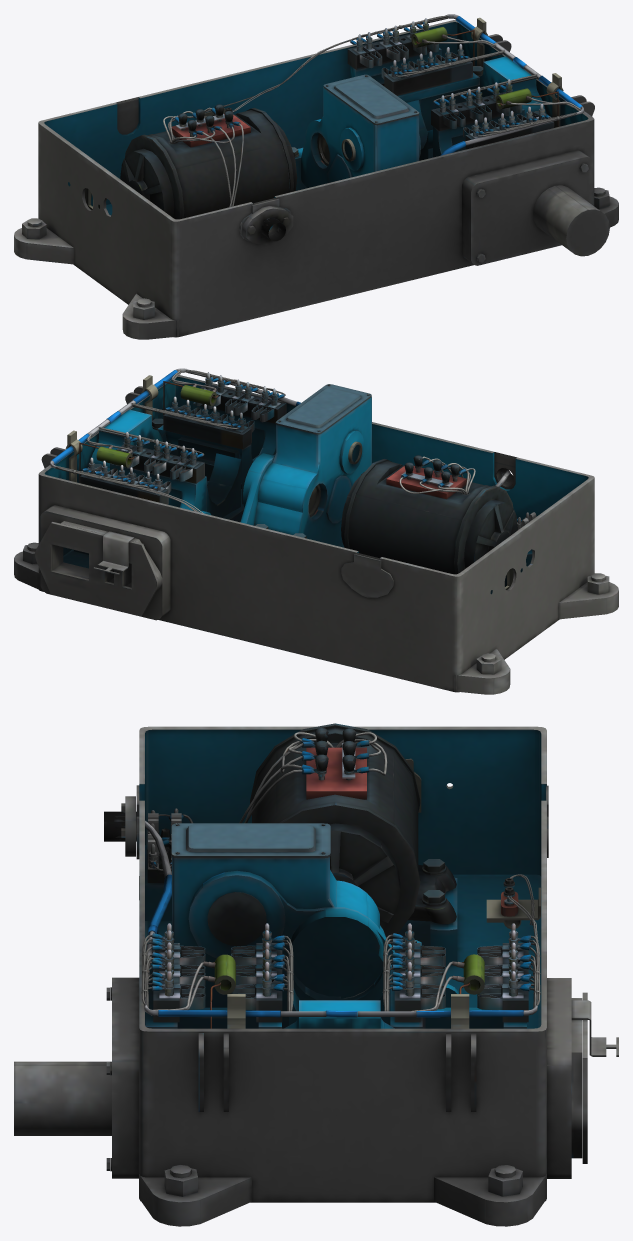
3 renders of one model, top to bottom at view 1: azimuth 30°, elevation 25°; view 2: azimuth 150°, elevation 25°; view 3: azimuth 270°, elevation 25°, orthographic. The views are drawn at different scales.
Visible parts, largest first — view 1: sp_case; view 2: sp_case; view 3: sp_case.
Part boxes in pixels (x1,y1,x2,y2): sp_case: [14, 14, 618, 339]; sp_case: [14, 368, 618, 694]; sp_case: [14, 723, 618, 1226].
Bounding box in the file's own units: 0.7767 × 0.2364 × 0.5608.
